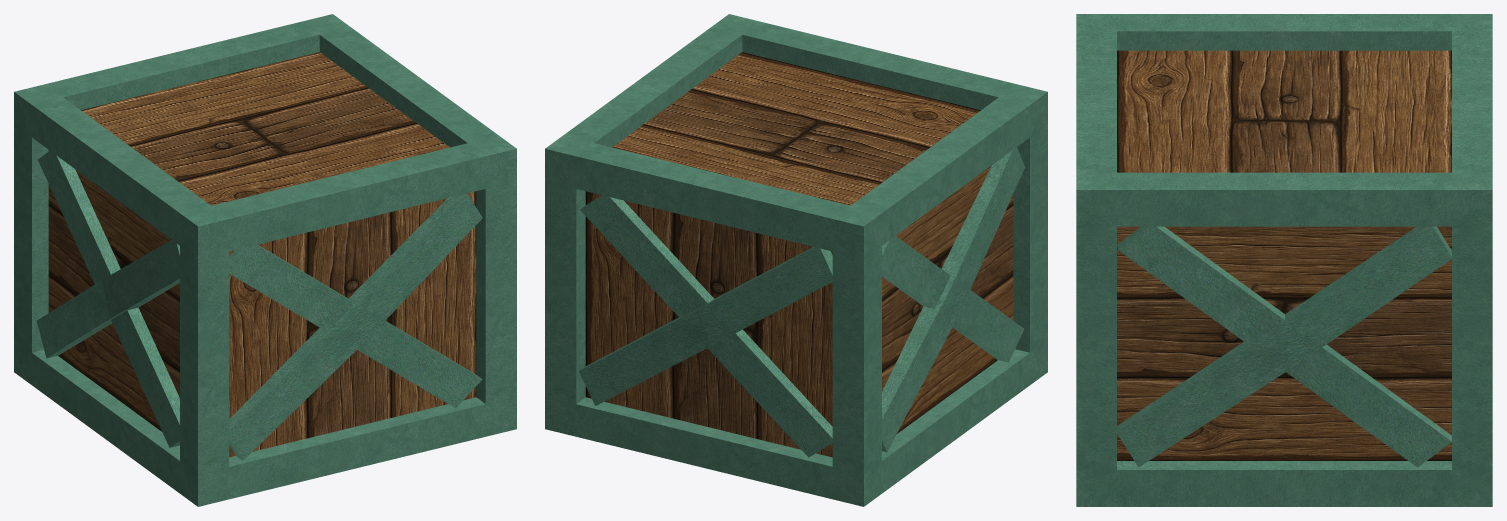
Rendered from Wood_Box_Drop.fbx.
3 views of the same model, side by side, from view 1: azimuth 30°, elevation 25°; view 2: azimuth 150°, elevation 25°; view 3: azimuth 270°, elevation 25° (orthographic). The views are drawn at different scales.
Visible parts, largest first — view 1: Wood_Box_Drop.002, Wood_Box_Drop.001, Wood_Box_Drop.005, Wood_Box_Drop.007, Wood_Box_Drop.016, Wood_Box_Drop.012, Wood_Box_Drop.010, Wood_Box_Drop.017, Wood_Box_Drop.009, Wood_Box_Drop.014, Wood_Box_Drop.008, Wood_Box_Drop.015; view 2: Wood_Box_Drop.004, Wood_Box_Drop.001, Wood_Box_Drop.005, Wood_Box_Drop.009, Wood_Box_Drop.015, Wood_Box_Drop.011, Wood_Box_Drop.010, Wood_Box_Drop.000, Wood_Box_Drop.007, Wood_Box_Drop.014, Wood_Box_Drop.008, Wood_Box_Drop.016; view 3: Wood_Box_Drop.003, Wood_Box_Drop.001, Wood_Box_Drop.008, Wood_Box_Drop.013, Wood_Box_Drop.010, Wood_Box_Drop.000, Wood_Box_Drop.017, Wood_Box_Drop.007, Wood_Box_Drop.009.
Boxes of the visible parts, <box> form: Wood_Box_Drop.002: <box>229,191,482,460</box>; Wood_Box_Drop.001: <box>81,52,449,205</box>; Wood_Box_Drop.005: <box>37,150,179,447</box>; Wood_Box_Drop.007: <box>198,143,516,251</box>; Wood_Box_Drop.016: <box>180,227,229,506</box>; Wood_Box_Drop.012: <box>198,397,516,506</box>; Wood_Box_Drop.010: <box>14,92,210,245</box>; Wood_Box_Drop.017: <box>476,149,516,428</box>; Wood_Box_Drop.009: <box>14,14,332,109</box>; Wood_Box_Drop.014: <box>14,350,197,506</box>; Wood_Box_Drop.008: <box>319,14,516,148</box>; Wood_Box_Drop.015: <box>14,92,48,371</box>; Wood_Box_Drop.004: <box>579,191,832,457</box>; Wood_Box_Drop.001: <box>612,52,980,205</box>; Wood_Box_Drop.005: <box>882,147,1024,452</box>; Wood_Box_Drop.009: <box>545,143,863,251</box>; Wood_Box_Drop.015: <box>832,227,881,506</box>; Wood_Box_Drop.011: <box>545,397,863,506</box>; Wood_Box_Drop.010: <box>851,92,1047,245</box>; Wood_Box_Drop.000: <box>545,149,585,428</box>; Wood_Box_Drop.007: <box>729,14,1047,109</box>; Wood_Box_Drop.014: <box>864,349,1047,506</box>; Wood_Box_Drop.008: <box>545,14,742,148</box>; Wood_Box_Drop.016: <box>1013,92,1047,371</box>; Wood_Box_Drop.003: <box>1117,226,1451,467</box>; Wood_Box_Drop.001: <box>1117,50,1451,172</box>; Wood_Box_Drop.008: <box>1077,172,1491,226</box>; Wood_Box_Drop.013: <box>1077,461,1491,506</box>; Wood_Box_Drop.010: <box>1077,14,1491,50</box>; Wood_Box_Drop.000: <box>1452,190,1492,506</box>; Wood_Box_Drop.017: <box>1076,190,1116,506</box>; Wood_Box_Drop.007: <box>1076,14,1116,189</box>; Wood_Box_Drop.009: <box>1452,14,1492,189</box>.
Size of the model in its own units: 57.17 by 48.05 by 57.17.
